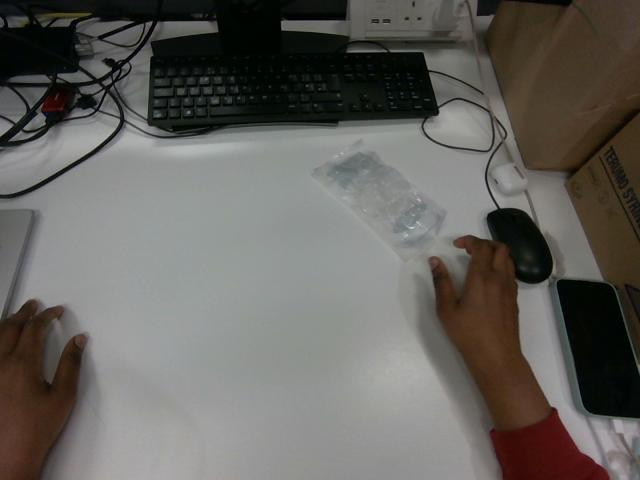gallipot: (313, 141, 445, 260)
